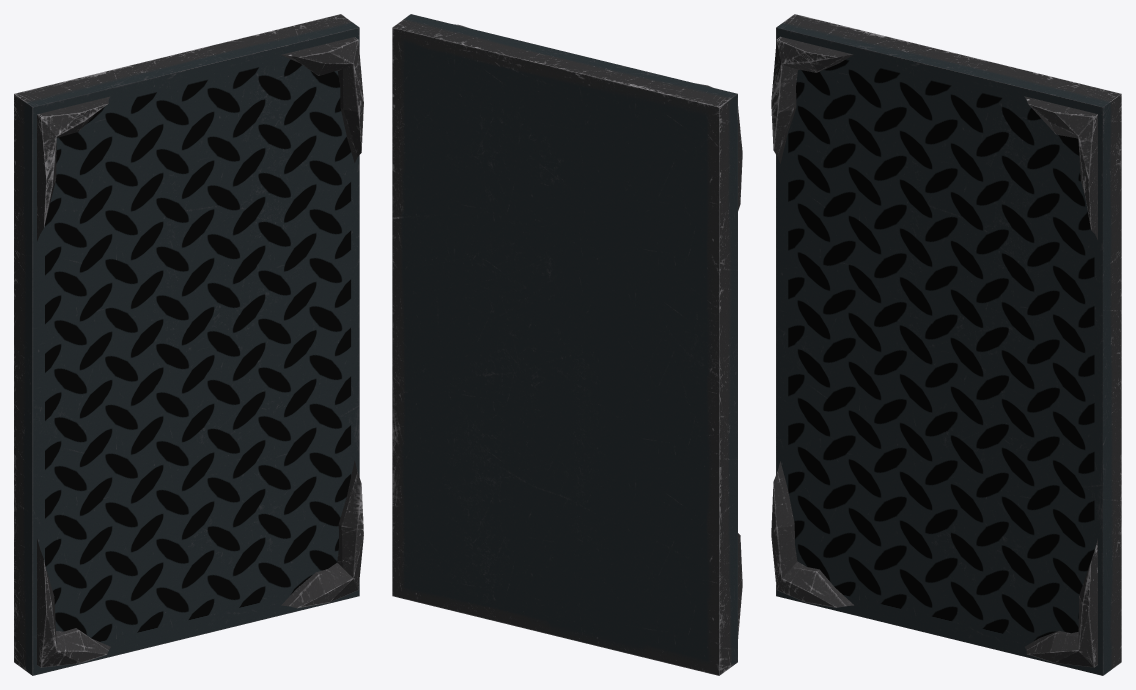
The model's file is CatwalkBlue.gltf.
The picture shows the model from 3 angles, left to right: view 1: azimuth 30°, elevation 25°; view 2: azimuth 150°, elevation 25°; view 3: azimuth 330°, elevation 25°; orthographic projection.
Visible parts, largest first — view 1: Cube.050; view 2: Cube.050; view 3: Cube.050.
Part boxes in pixels (x1,y1,x2,y2): Cube.050: (14,14,363,675); Cube.050: (392,14,742,675); Cube.050: (771,14,1121,675).
Bounding box in the file's own units: 3.02 × 5.02 × 0.4464.
Materials: 1 (1 with a texture image).
